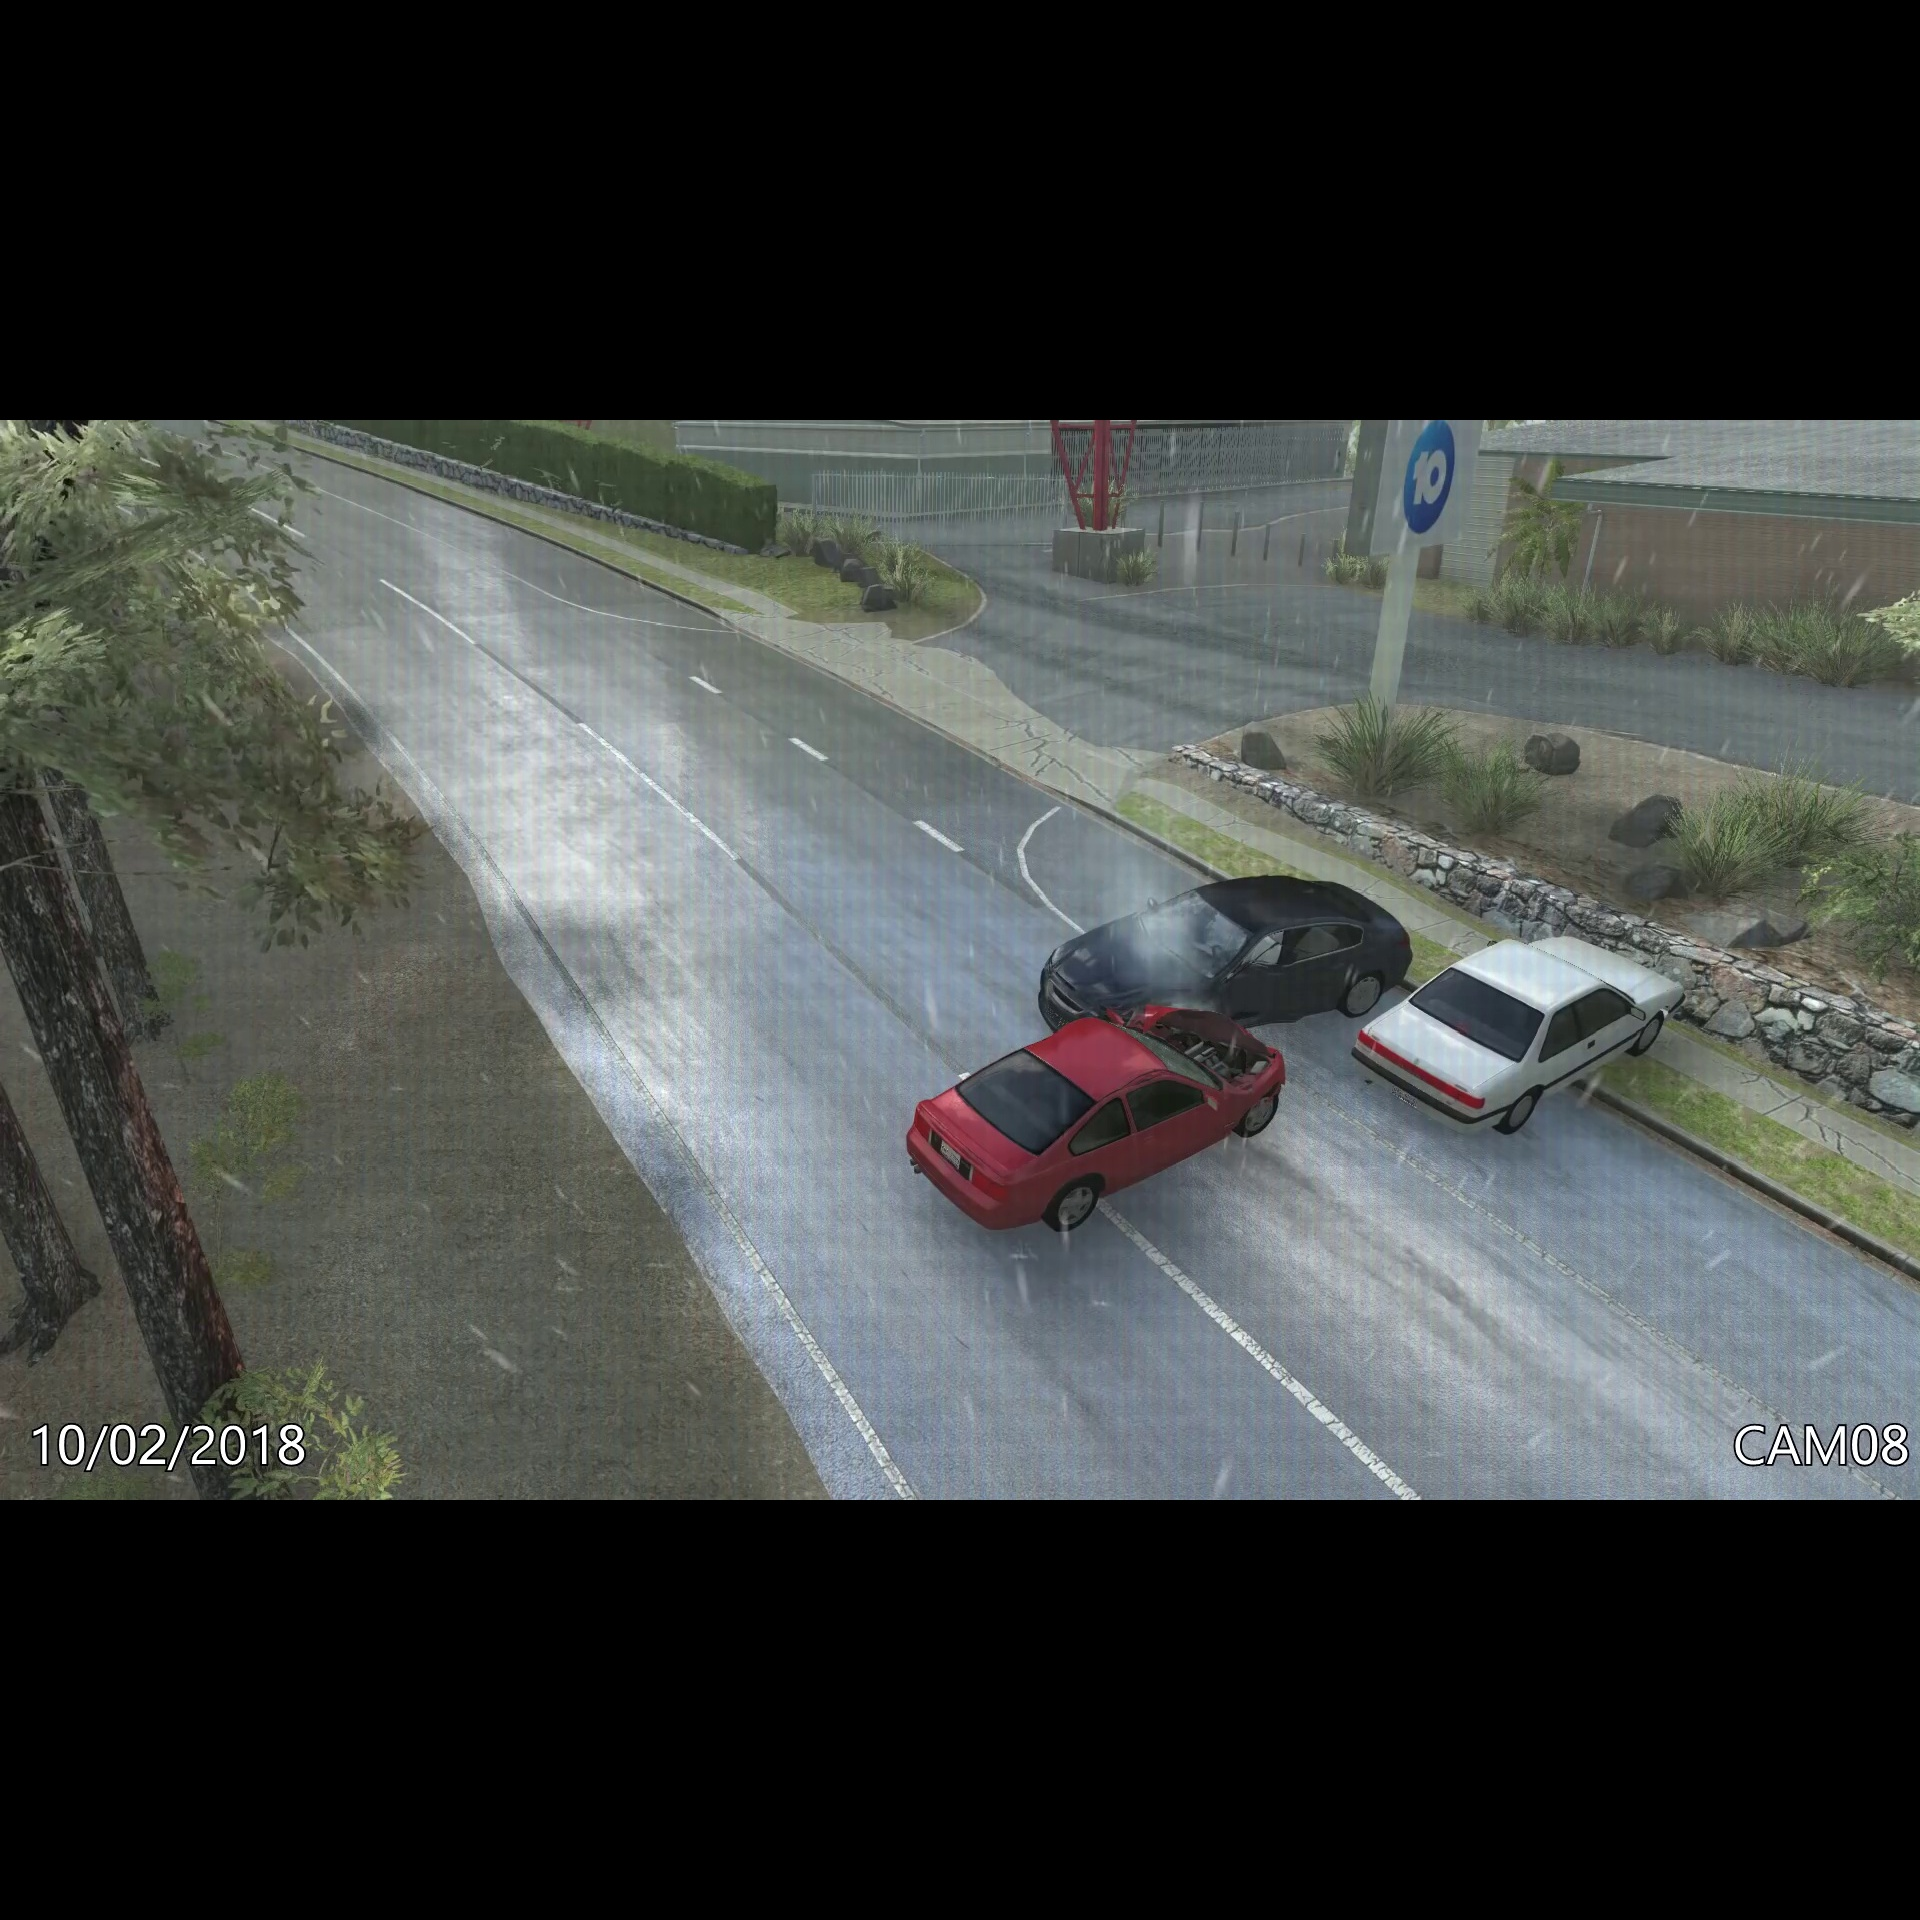vehicle: (897, 1000, 1291, 1245), (1347, 934, 1695, 1148), (1034, 862, 1421, 1039)
